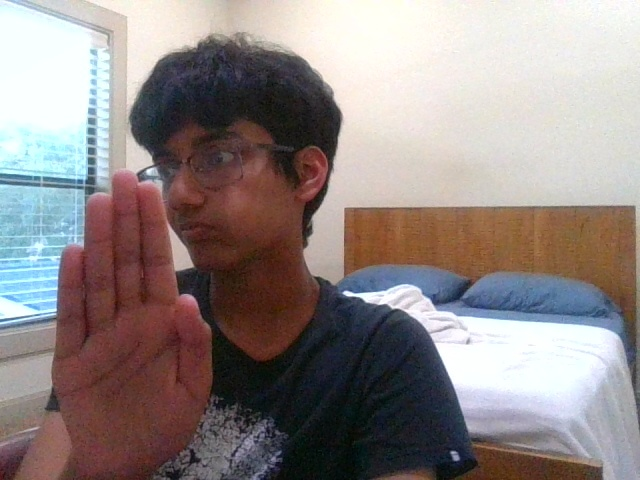hello: (51, 170, 213, 464)
